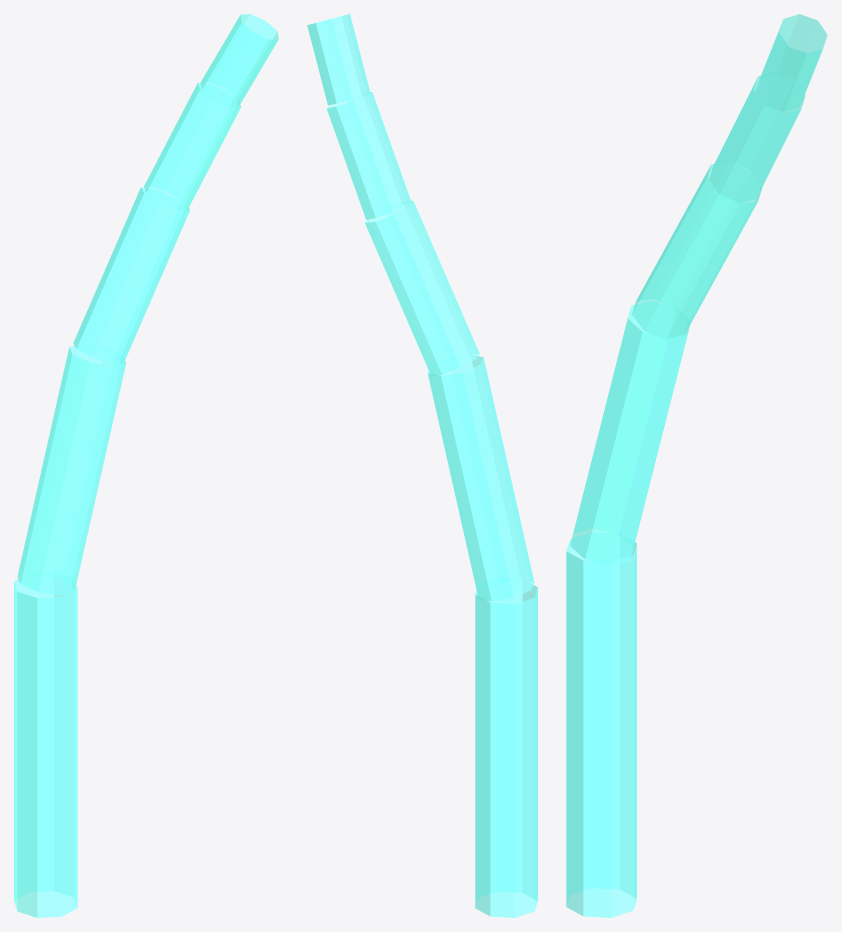
Rendered from gen0002-artistic.glb.
The picture shows the model from 3 angles, left to right: view 1: azimuth 30°, elevation 25°; view 2: azimuth 150°, elevation 25°; view 3: azimuth 330°, elevation 25°; orthographic projection. The views are drawn at different scales.
Visible parts, largest first — view 1: branch_d5, branch_d4, branch_d3, branch_d2, branch_d1; view 2: branch_d5, branch_d4, branch_d3, branch_d2, branch_d1; view 3: branch_d5, branch_d4, branch_d3, branch_d2, branch_d1.
Part boxes in pixels (box(x1,y1,x2,y2)): branch_d5: box(14, 574, 77, 917); branch_d4: box(17, 345, 126, 595); branch_d3: box(73, 187, 189, 365); branch_d2: box(144, 82, 240, 209); branch_d1: box(200, 14, 278, 106); branch_d5: box(475, 580, 537, 917); branch_d4: box(427, 355, 534, 601); branch_d3: box(365, 200, 479, 375); branch_d2: box(326, 92, 411, 219); branch_d1: box(307, 14, 370, 105); branch_d5: box(566, 533, 636, 917); branch_d4: box(570, 301, 689, 565); branch_d3: box(632, 162, 761, 339); branch_d2: box(709, 73, 805, 202); branch_d1: box(755, 14, 827, 112).
Size of the model in its own units: 0.1377 by 0.4587 by 0.0429.
